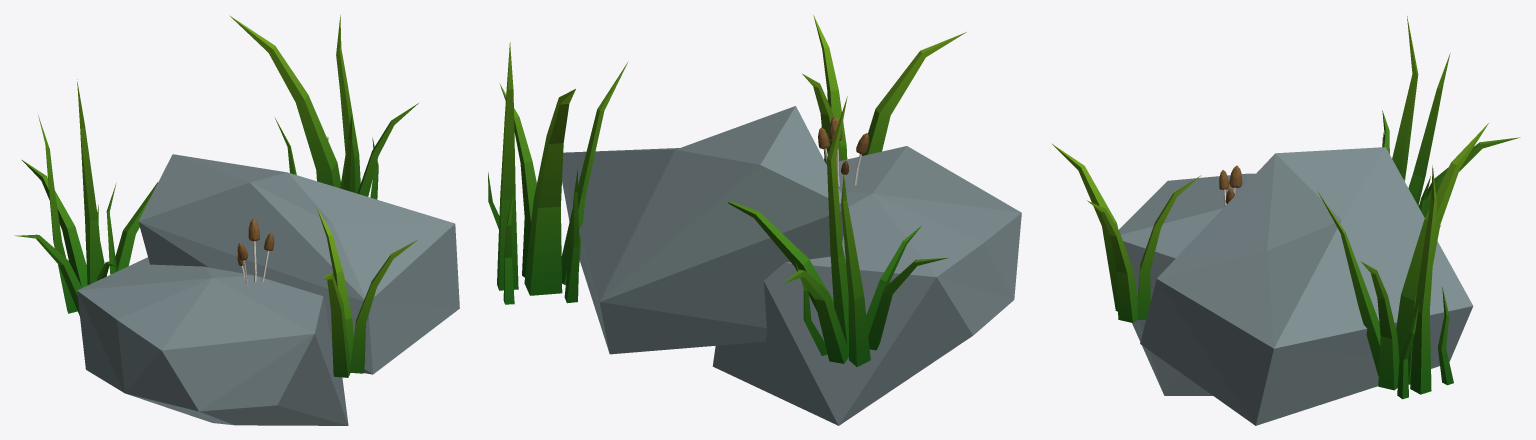
Rendered from Rock_09.fbx.
The picture shows the model from 3 angles, left to right: view 1: azimuth 30°, elevation 25°; view 2: azimuth 150°, elevation 25°; view 3: azimuth 270°, elevation 25°; orthographic projection. The views are drawn at different scales.
Visible parts, largest first — view 1: Rock_09; view 2: Rock_09; view 3: Rock_09.
Boxes of the visible parts, left/top/right/bottom form: Rock_09: left=14, top=15, right=459, bottom=425; Rock_09: left=488, top=15, right=1021, bottom=425; Rock_09: left=1051, top=16, right=1520, bottom=425.
Size of the model in its own units: 114 by 82.67 by 114.
